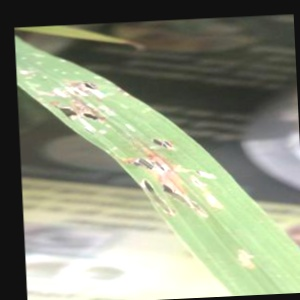Brown_Spot: (127, 179, 173, 219), (145, 126, 179, 159), (50, 100, 81, 134), (228, 250, 260, 279), (186, 163, 216, 188), (79, 102, 108, 125), (68, 76, 97, 97)
